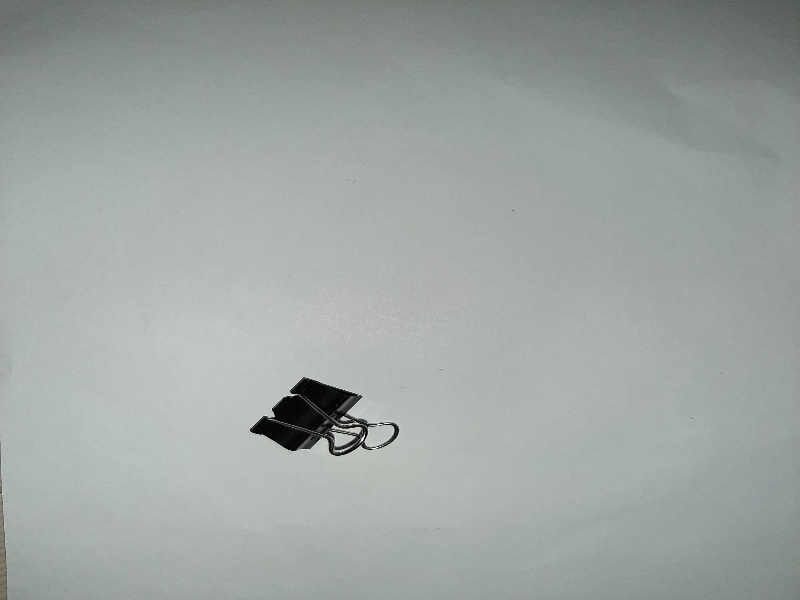Big Paperclip: (242, 361, 416, 470)
